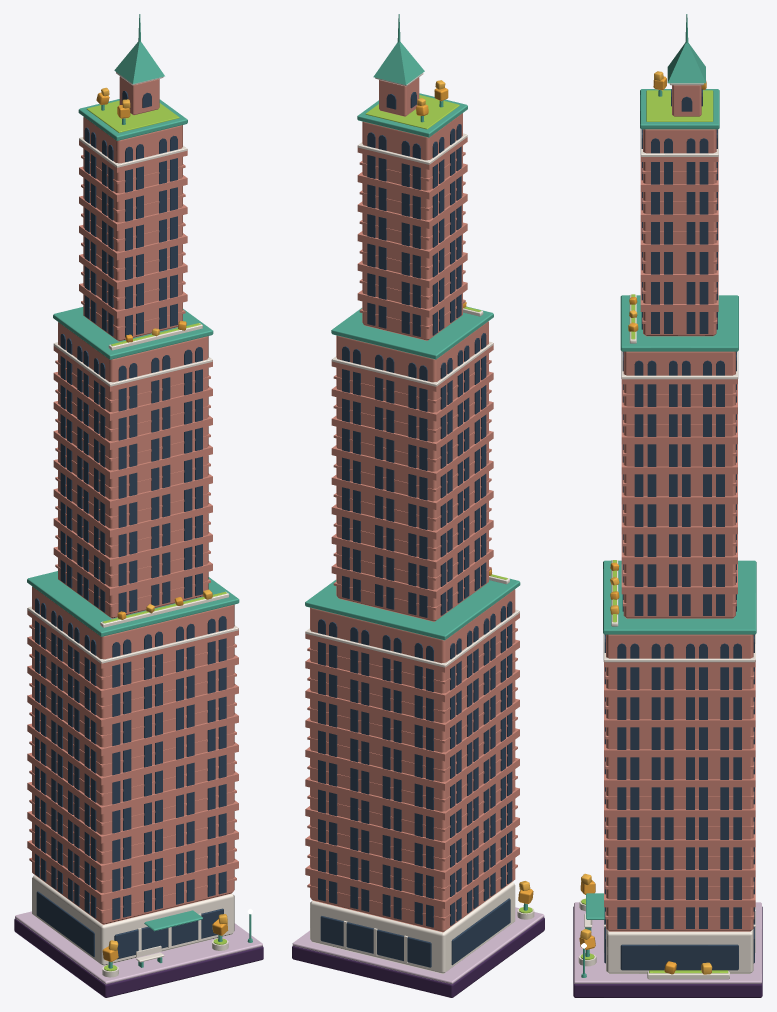
The model's file is modern_building_2_3Level_Demo.glb.
The picture shows the model from 3 angles, left to right: view 1: azimuth 30°, elevation 25°; view 2: azimuth 150°, elevation 25°; view 3: azimuth 270°, elevation 25°; orthographic projection. The views are drawn at different scales.
Visible parts, largest first — view 1: MB2_3_Rose3, MB2_3_Glass3, MB2_3_Copper3, MB2_3_Ivory3, MB2_3_Paving, MB2_3_Base, MB2_3_Grass, MB2_3_Leaf; view 2: MB2_3_Rose3, MB2_3_Glass3, MB2_3_Copper3, MB2_3_Ivory3, MB2_3_Base, MB2_3_Paving, MB2_3_Grass; view 3: MB2_3_Rose3, MB2_3_Glass3, MB2_3_Copper3, MB2_3_Ivory3, MB2_3_Paving, MB2_3_Base, MB2_3_Grass, MB2_3_Leaf, MB2_3_Leaf2.
Boxes of the visible parts, box(x1,y1,x2,y2) form: MB2_3_Rose3: box(27, 76, 238, 924); MB2_3_Glass3: box(35, 91, 226, 959); MB2_3_Copper3: box(27, 14, 252, 968); MB2_3_Ivory3: box(27, 72, 238, 977); MB2_3_Paving: box(15, 911, 262, 984); MB2_3_Base: box(14, 918, 263, 997); MB2_3_Grass: box(86, 100, 226, 971); MB2_3_Leaf: box(96, 92, 228, 962); MB2_3_Rose3: box(305, 77, 519, 932); MB2_3_Glass3: box(318, 92, 512, 967); MB2_3_Copper3: box(305, 14, 527, 910); MB2_3_Ivory3: box(305, 73, 534, 973); MB2_3_Base: box(292, 917, 544, 997); MB2_3_Paving: box(292, 907, 544, 984); MB2_3_Grass: box(365, 95, 532, 913); MB2_3_Rose3: box(604, 85, 755, 931); MB2_3_Glass3: box(604, 89, 754, 970); MB2_3_Copper3: box(581, 14, 756, 977); MB2_3_Ivory3: box(578, 83, 755, 979); MB2_3_Paving: box(574, 902, 761, 983); MB2_3_Base: box(573, 906, 762, 997); MB2_3_Grass: box(580, 90, 728, 973); MB2_3_Leaf: box(579, 76, 706, 974); MB2_3_Leaf2: box(580, 71, 712, 974).
Size of the model in its own units: 3.2 by 17.73 by 3.2.
